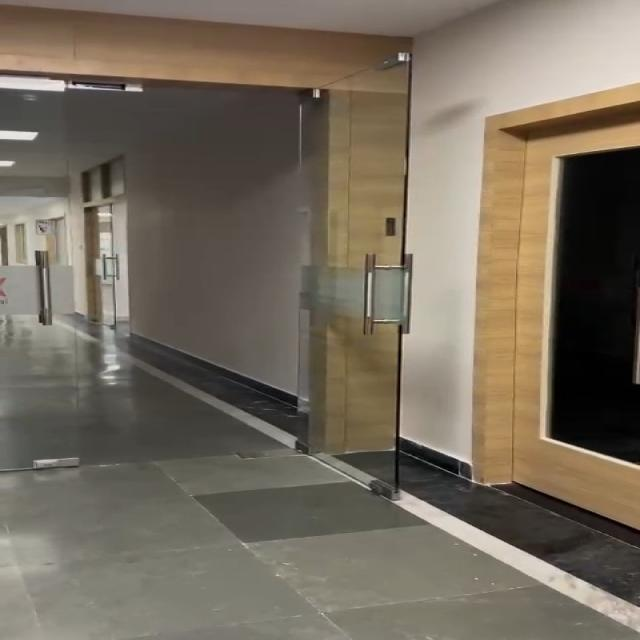door: (470, 91, 640, 475)
floor: (8, 442, 640, 640)
wall: (139, 135, 315, 369)
